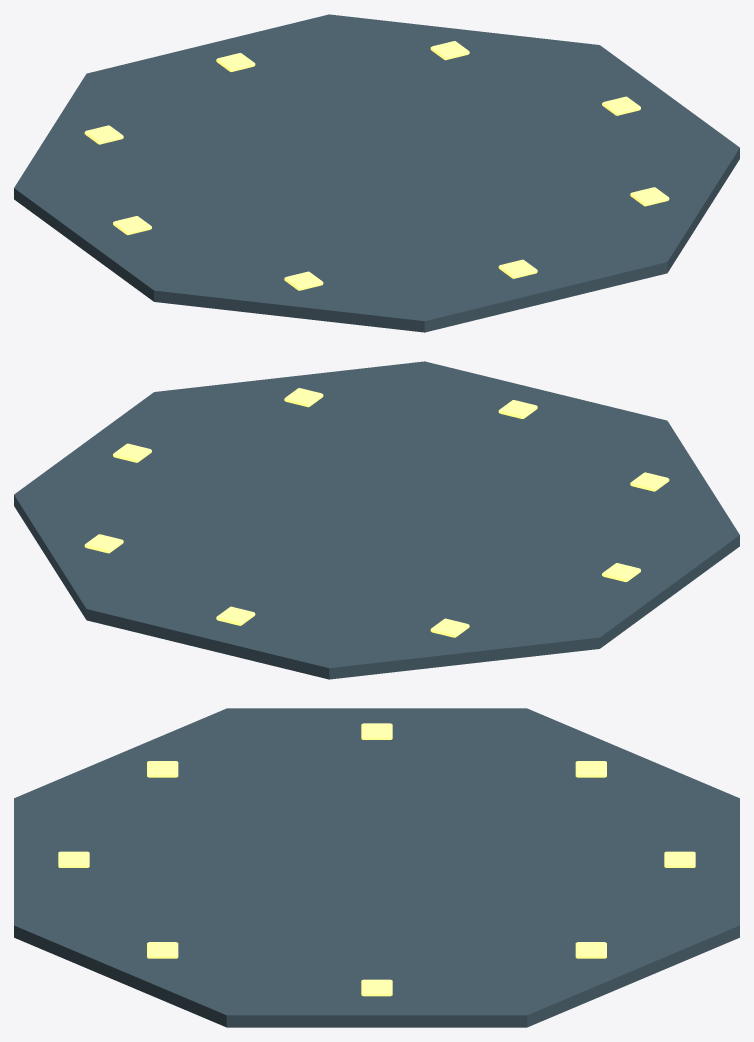
Rendered from SM_COM_MOD_000_LandingPad.glb.
3 views of the same model, one above another, from view 1: azimuth 30°, elevation 25°; view 2: azimuth 150°, elevation 25°; view 3: azimuth 270°, elevation 25° (orthographic). The views are drawn at different scales.
Parts seen in each view (by area): view 1: SM_COM_MOD_000_LandingPad; view 2: SM_COM_MOD_000_LandingPad; view 3: SM_COM_MOD_000_LandingPad.
Boxes of the visible parts, x1=… form: SM_COM_MOD_000_LandingPad: x1=14, y1=14, x2=739, y2=332; SM_COM_MOD_000_LandingPad: x1=14, y1=361, x2=739, y2=679; SM_COM_MOD_000_LandingPad: x1=14, y1=708, x2=739, y2=1027.
Bounding box in the file's own units: 6.47 × 0.16 × 6.47.
